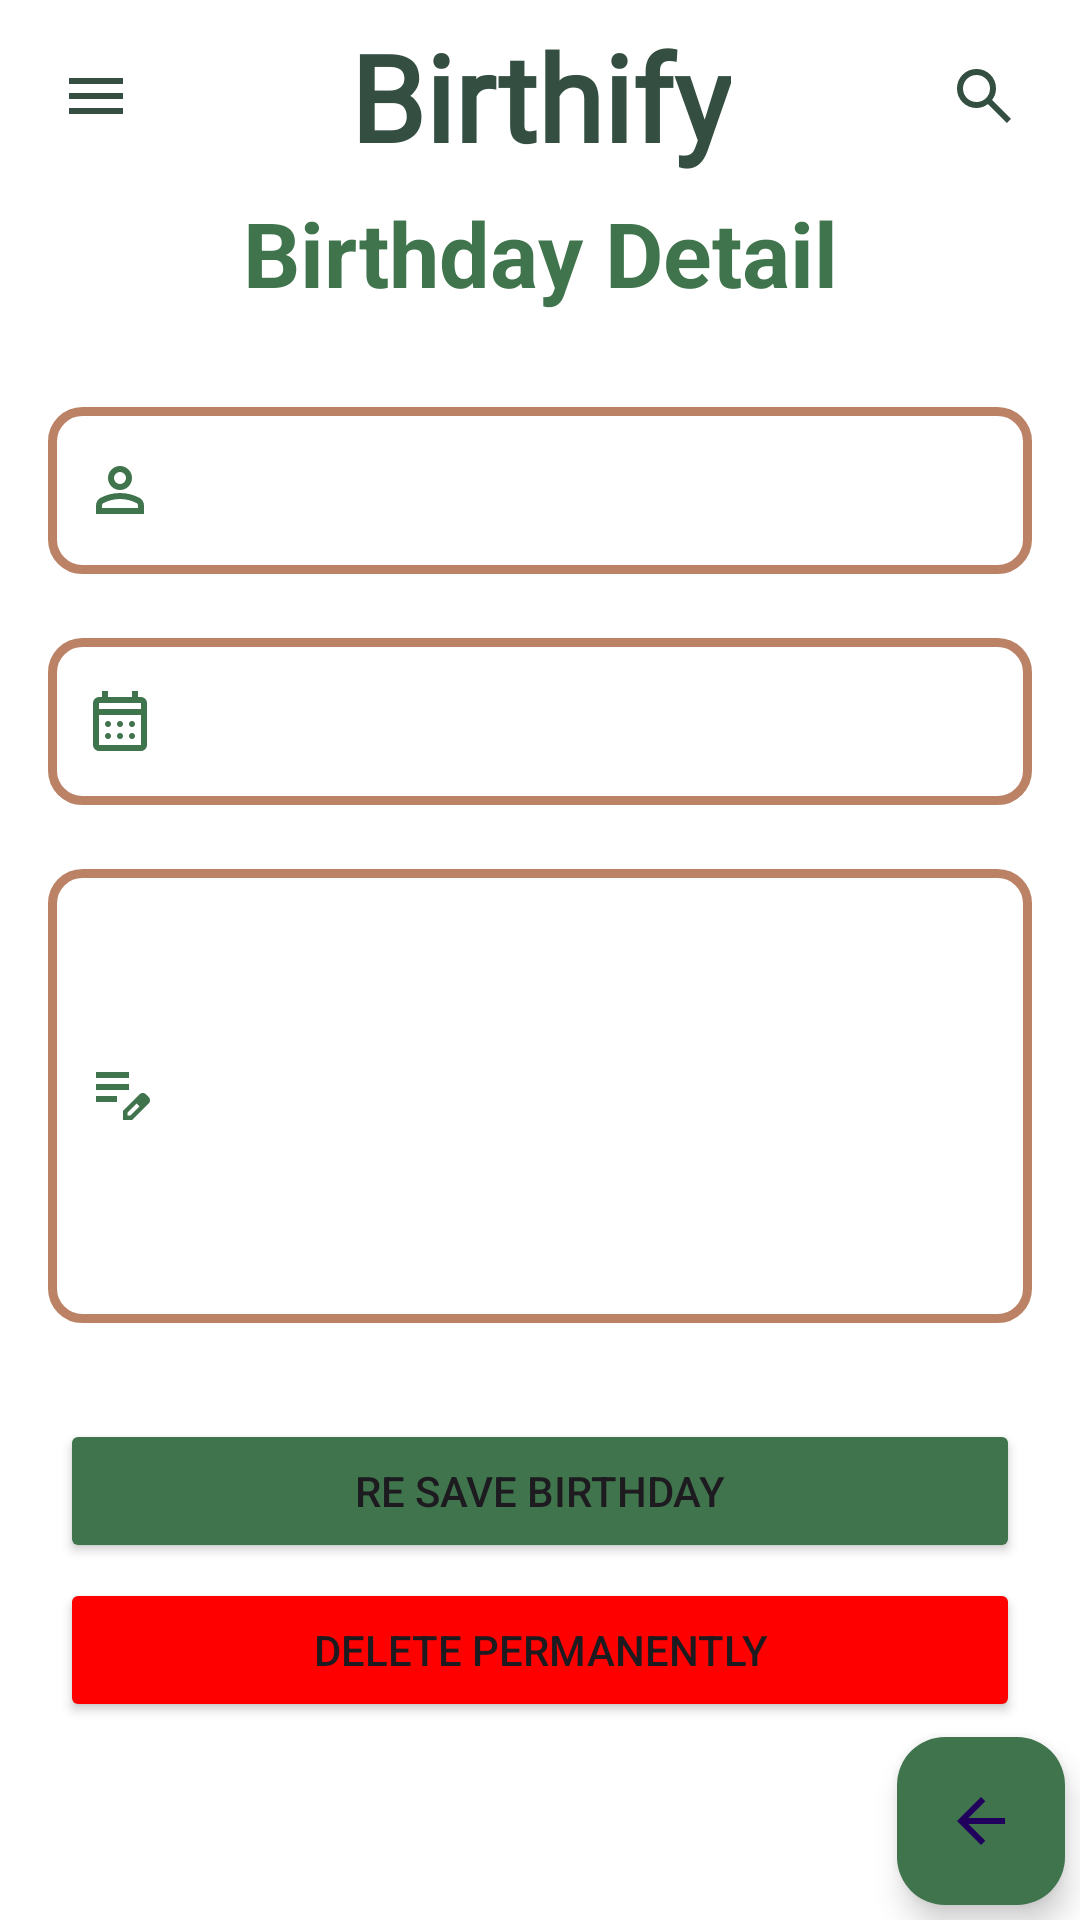

Named icons in this screenshot (1080 x 1920) and their bounding boxes, (x1, y1, x2, y2):
fab back: (897, 1737, 1065, 1905)
Toolbar Menu Three Lines: (69, 78, 123, 114)
